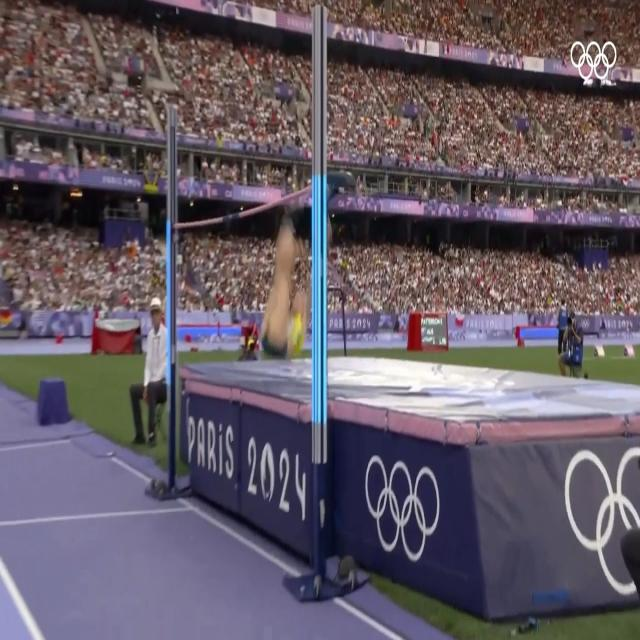land: (250, 198, 314, 374)
